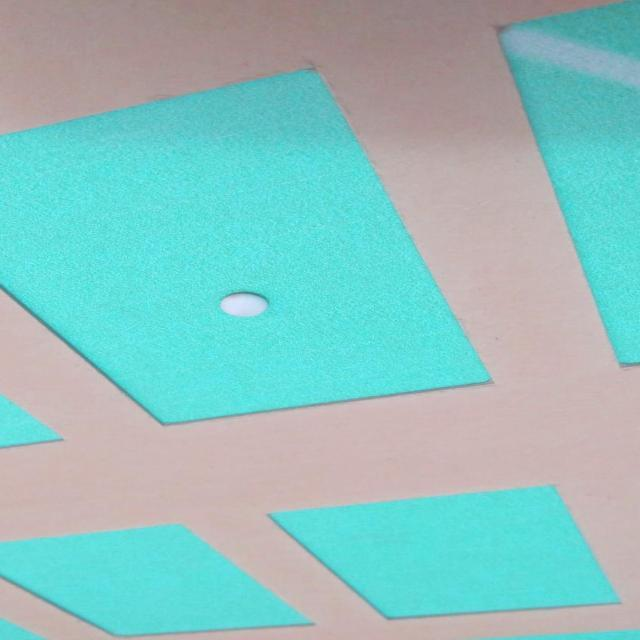pill: (216, 290, 276, 319)
